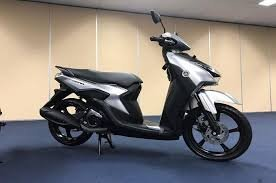motor: (35, 25, 253, 168)
